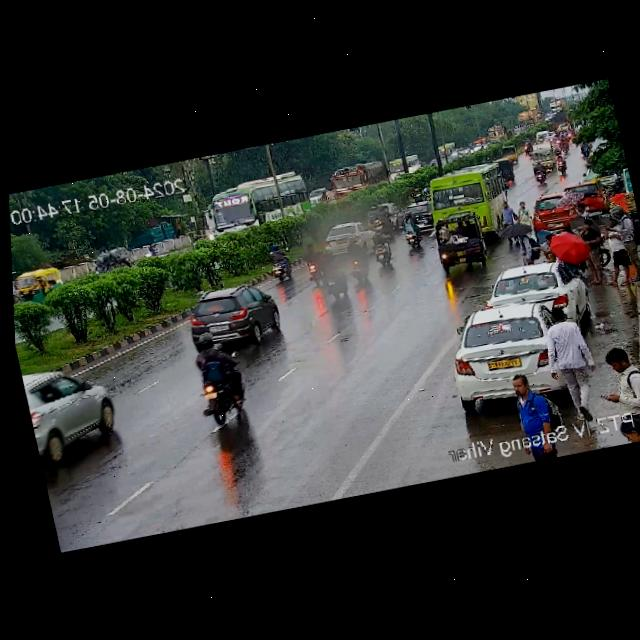bus: (417, 155, 528, 242), (200, 167, 316, 239), (386, 152, 423, 181)
car: (439, 291, 594, 414), (25, 361, 127, 467), (179, 283, 284, 353), (483, 257, 584, 324), (432, 212, 493, 269), (12, 265, 72, 308), (318, 219, 374, 253), (365, 200, 398, 228), (401, 205, 436, 231)
motorcycle: (186, 331, 254, 428), (296, 239, 332, 291), (258, 240, 296, 283), (396, 217, 430, 250), (363, 230, 393, 267), (552, 150, 572, 177), (527, 161, 550, 184)
person: (505, 370, 569, 463), (534, 302, 595, 395), (595, 338, 640, 444), (588, 215, 636, 284), (537, 230, 559, 259), (498, 201, 517, 227)
truck: (323, 158, 388, 198), (512, 106, 549, 135), (483, 122, 510, 147), (544, 96, 571, 119)
